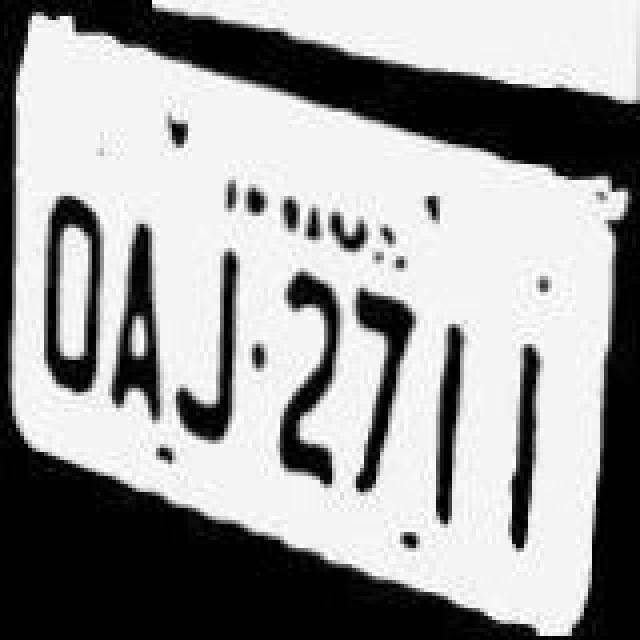1: (428, 290, 480, 538), (500, 332, 552, 580)
2: (278, 260, 350, 512)
7: (356, 286, 416, 526)
A: (104, 186, 172, 438)
J: (172, 224, 248, 452)
O: (32, 176, 108, 432)
